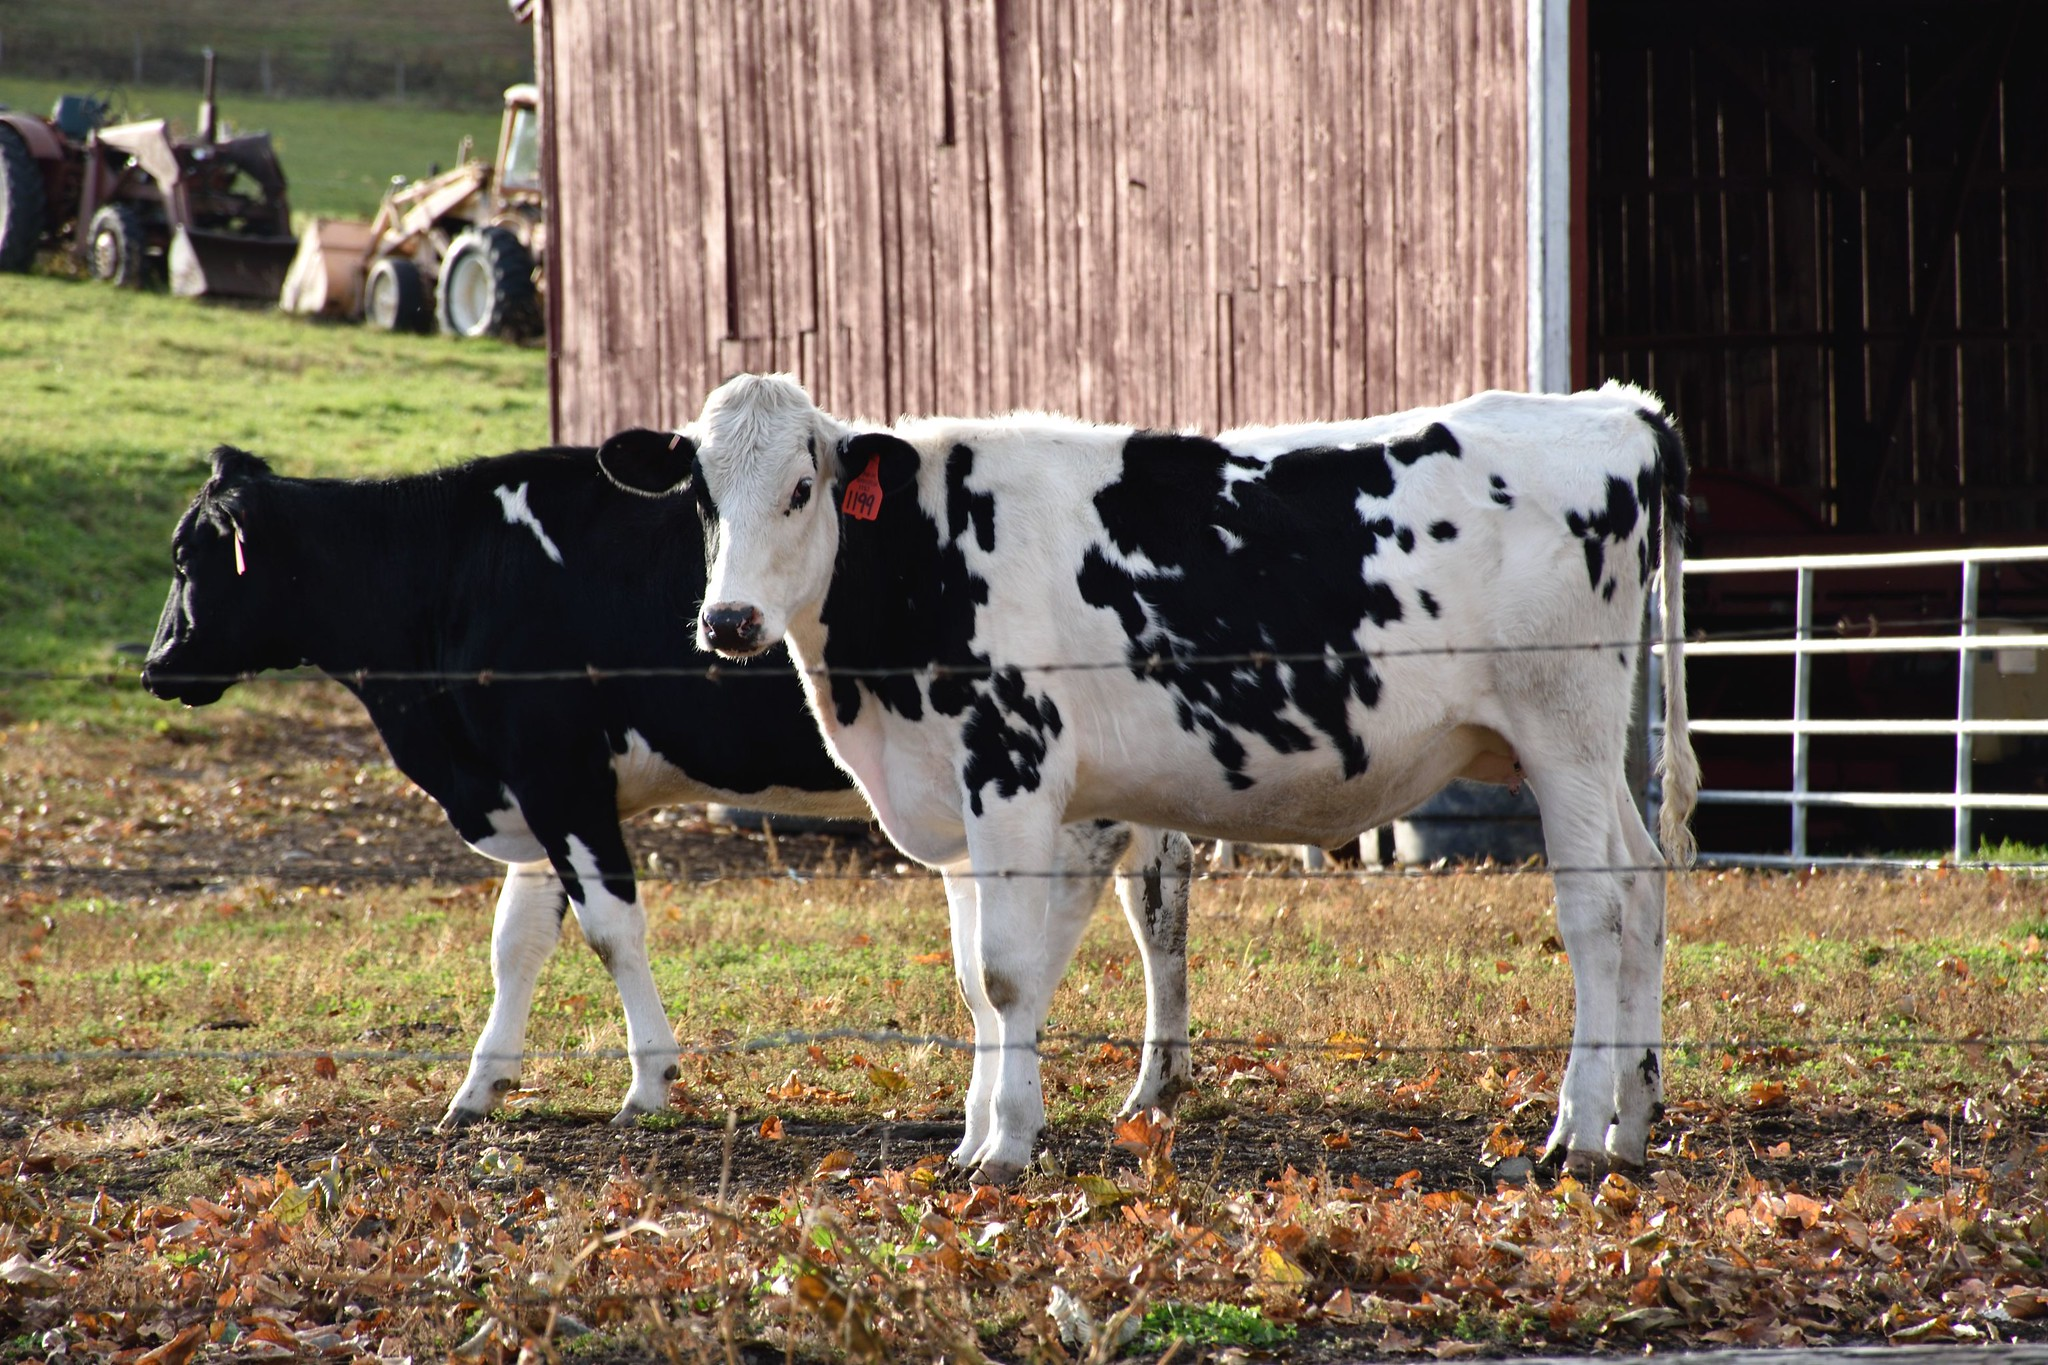cow: (611, 385, 1711, 1168), (145, 442, 848, 1165)
